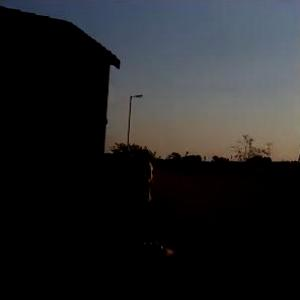follow: (95, 151, 182, 299)
